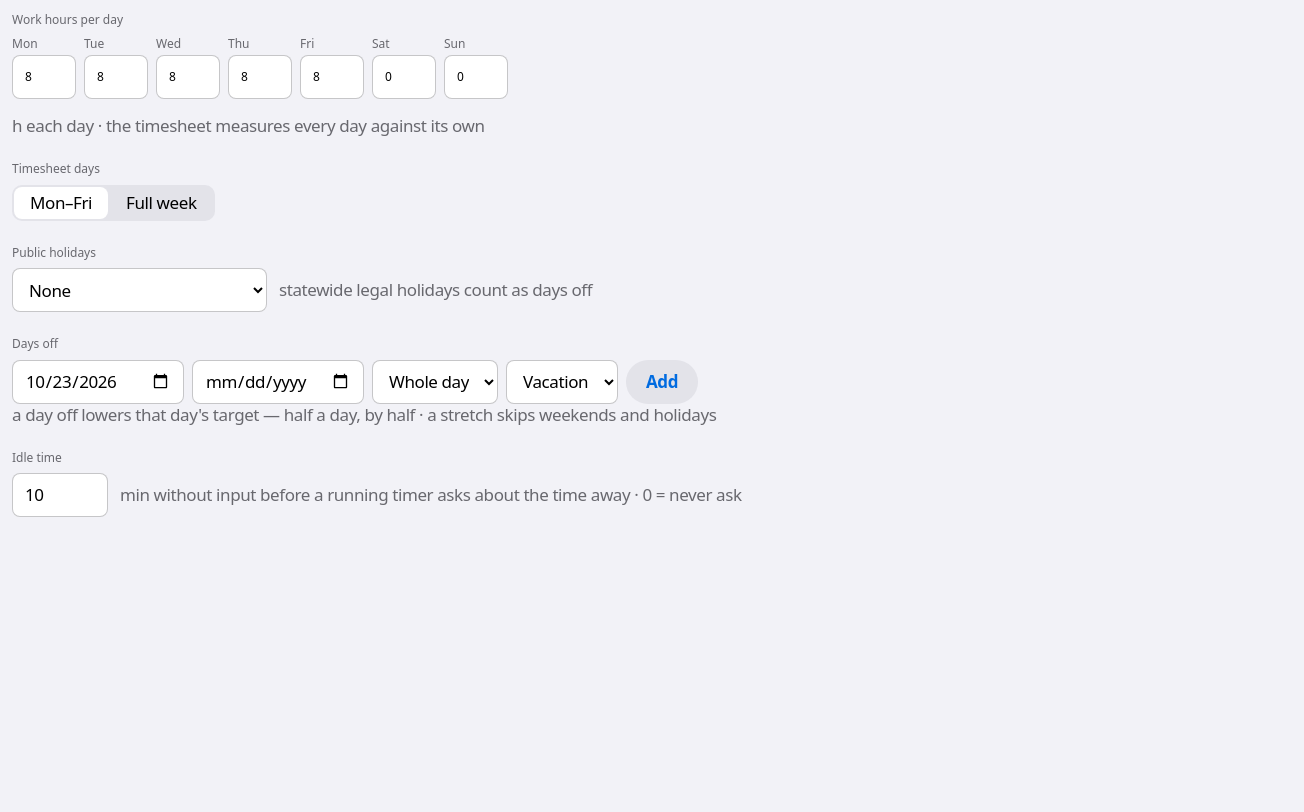
days off › marks one day
Type "2026-12-24" into the date field named "Day off from" at (98, 382), box [12,360,184,404]
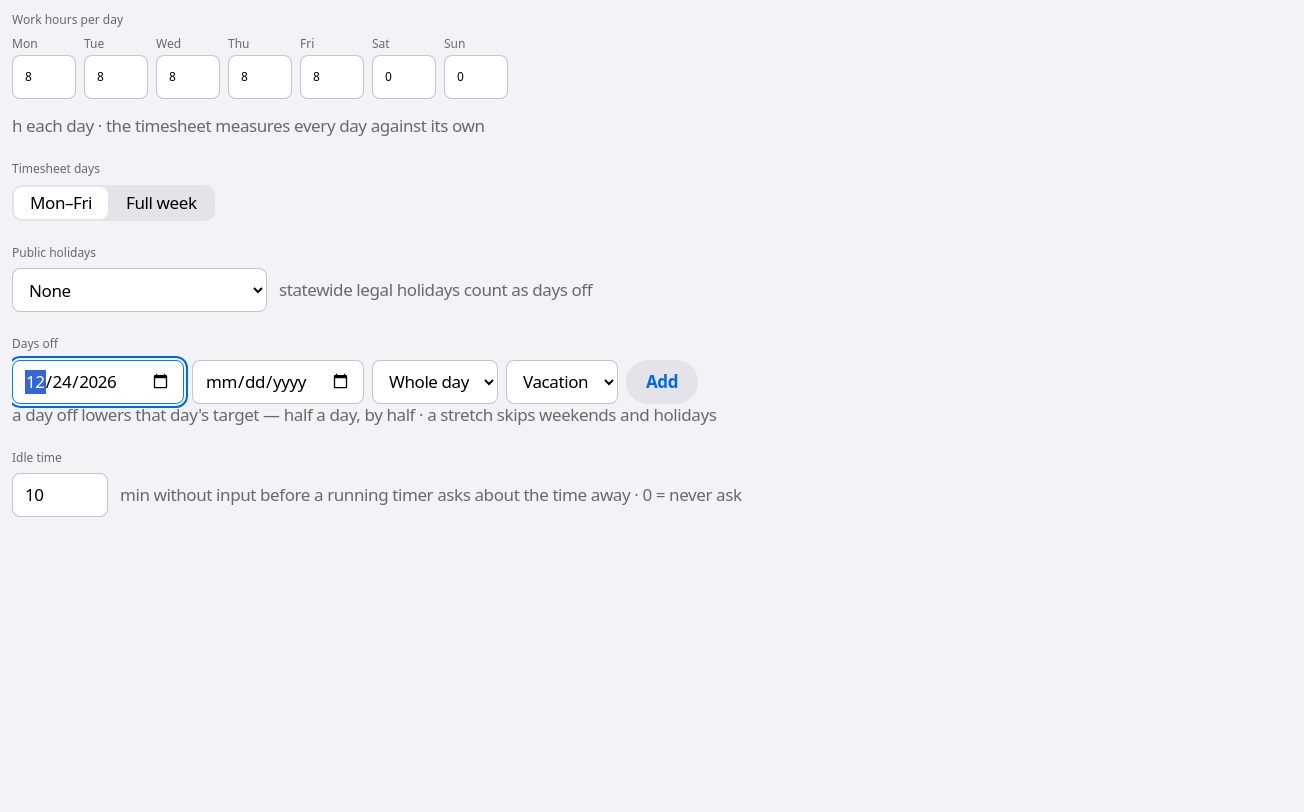
Select "Half day" in the dropdown named "How much of the day" at (435, 382), box [372,360,498,404]
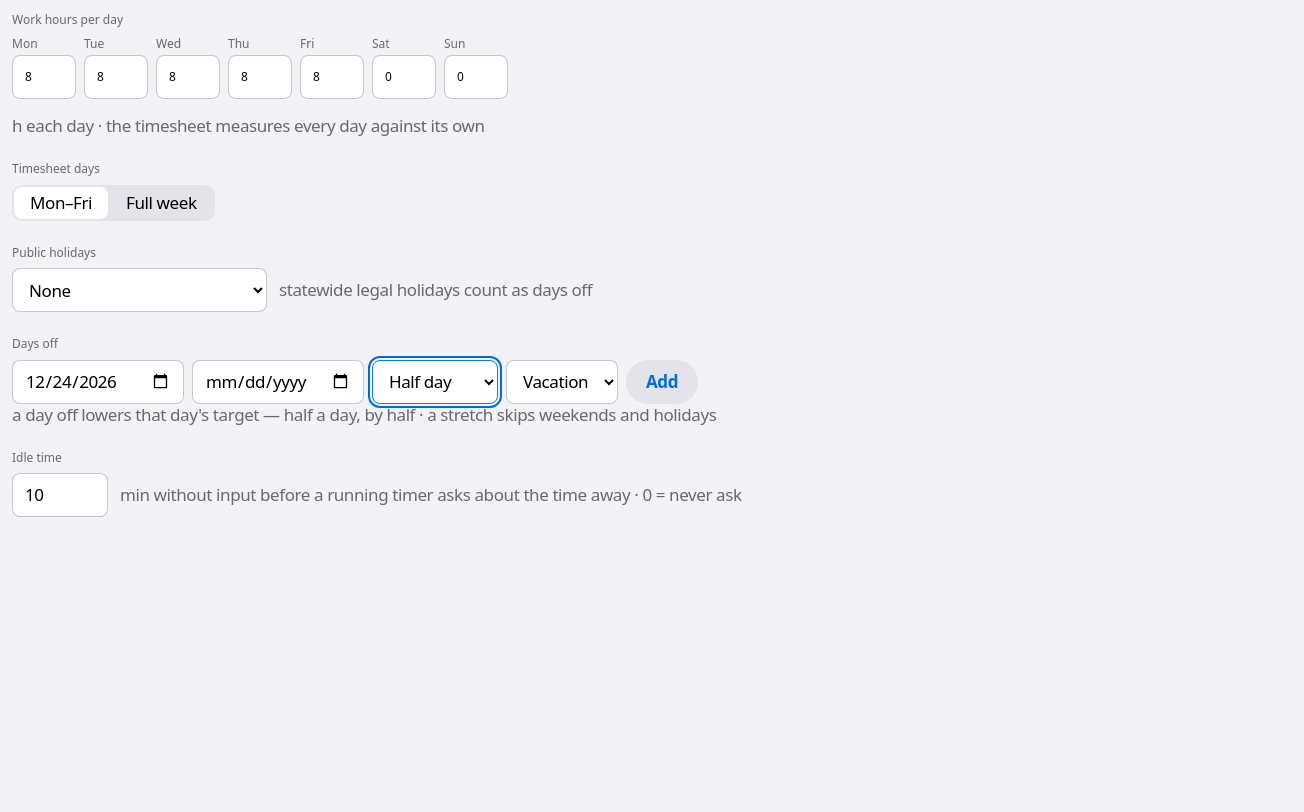
Click the button "Add" at (662, 382), box [626,360,698,404]
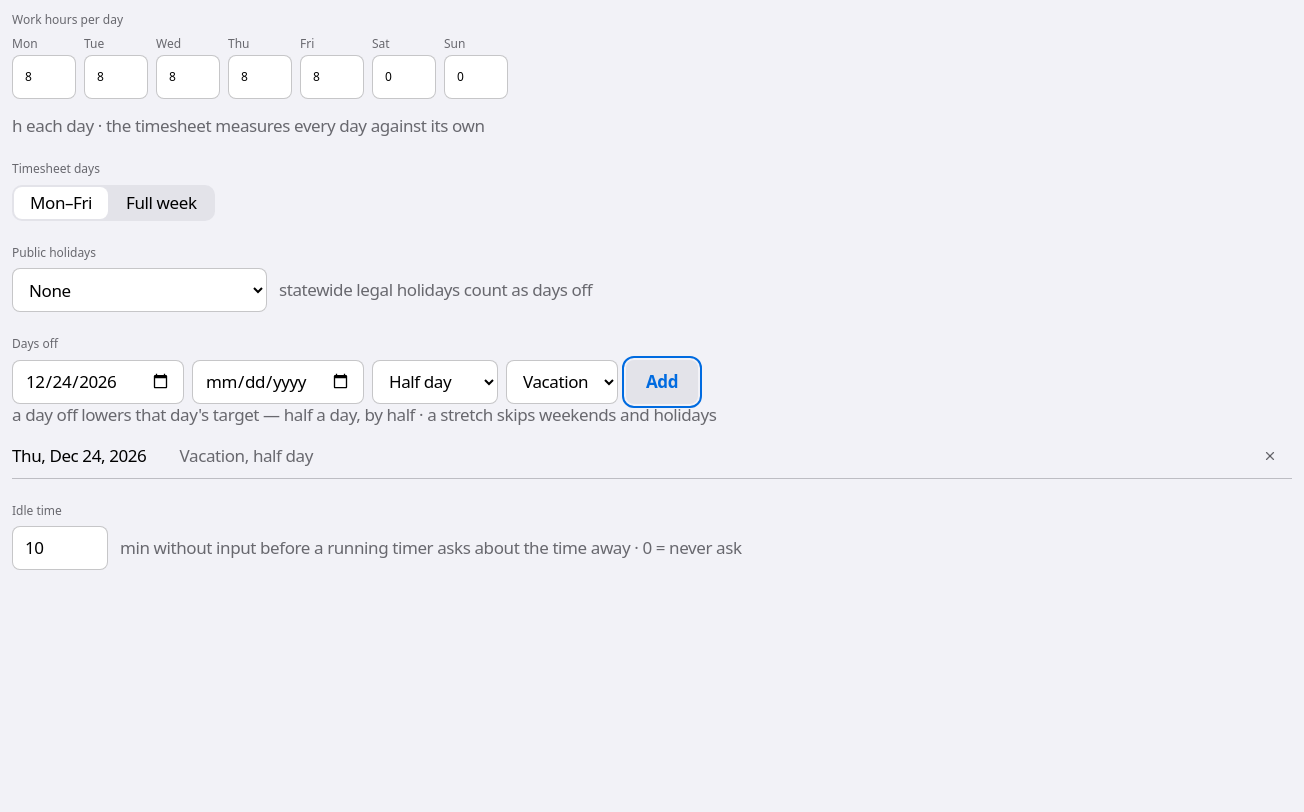
Check: the list named "Days off" shows "half day", box [245,444,313,466]
